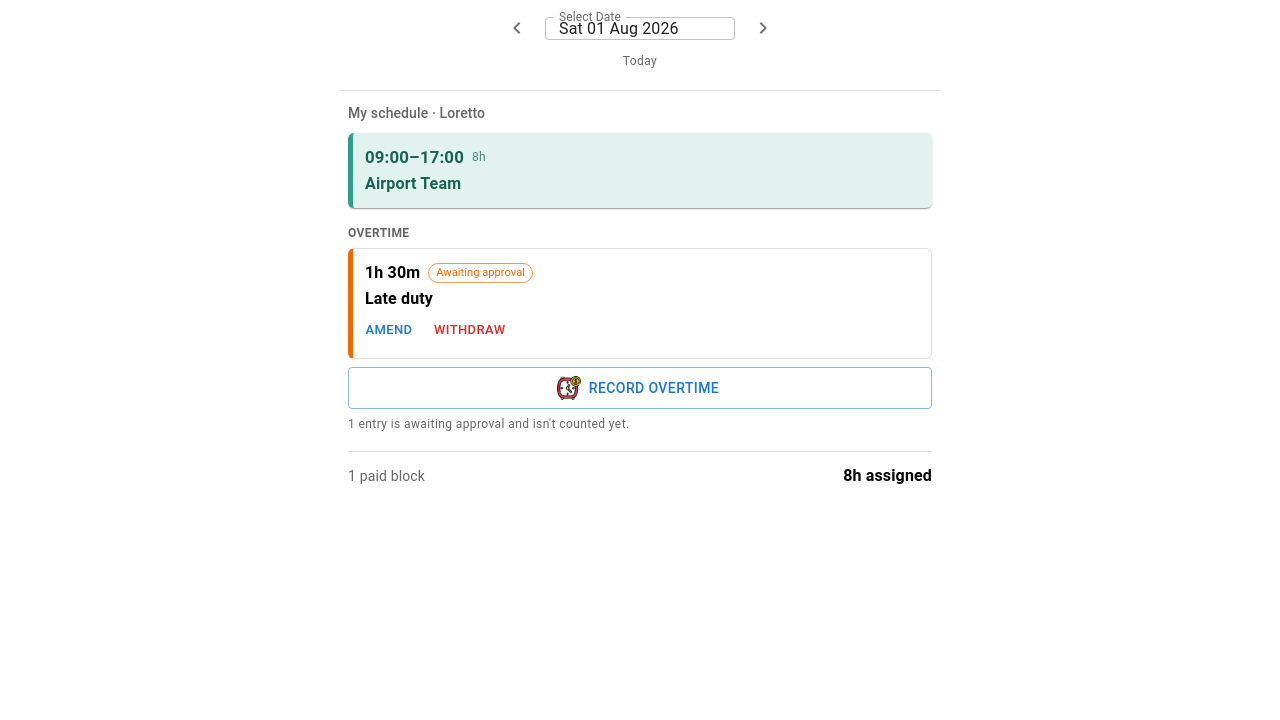
Test: withdraws an entry after confirming
This screenshot has width=1280, height=720.
Expected: the text "Late duty" is shown, [365,289,433,308]
Click the button "Withdraw" at coordinates (470, 330), box [429,315,510,346]
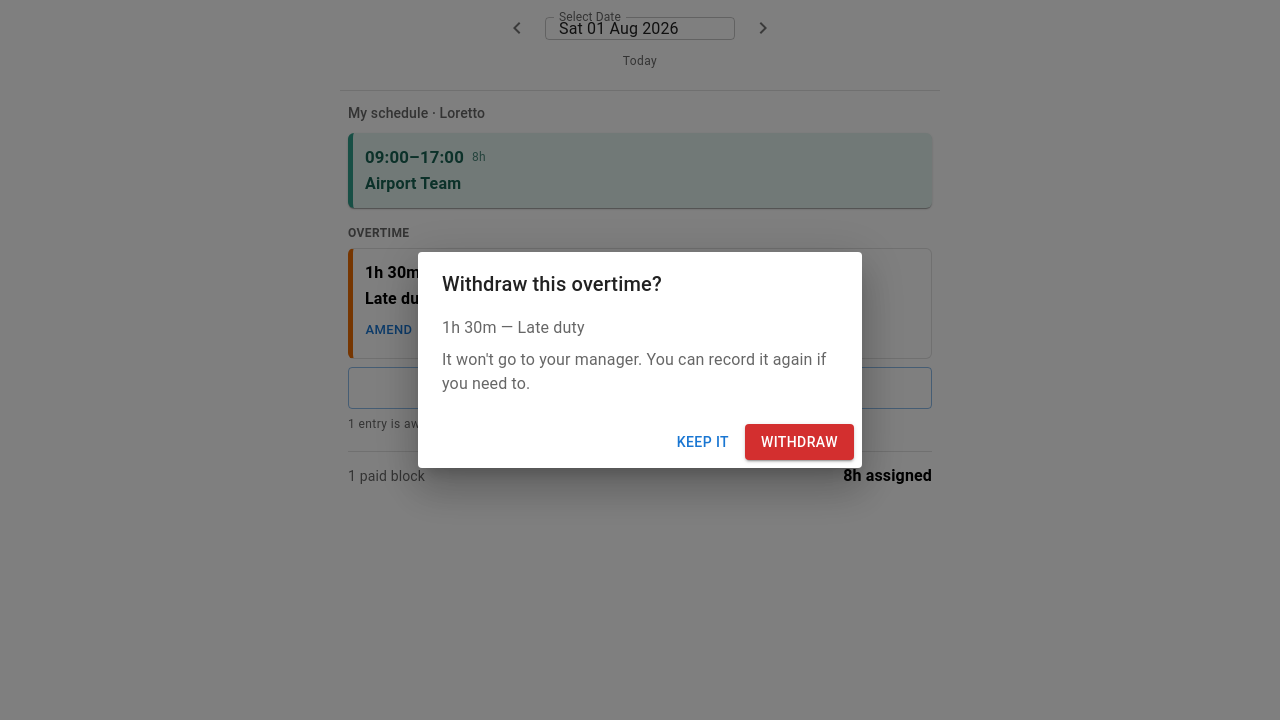
Result: the text "won't go to your manager" is shown at [442,350,826,393]
Click the button "Withdraw" at coordinates (800, 442), box [745,424,854,460]
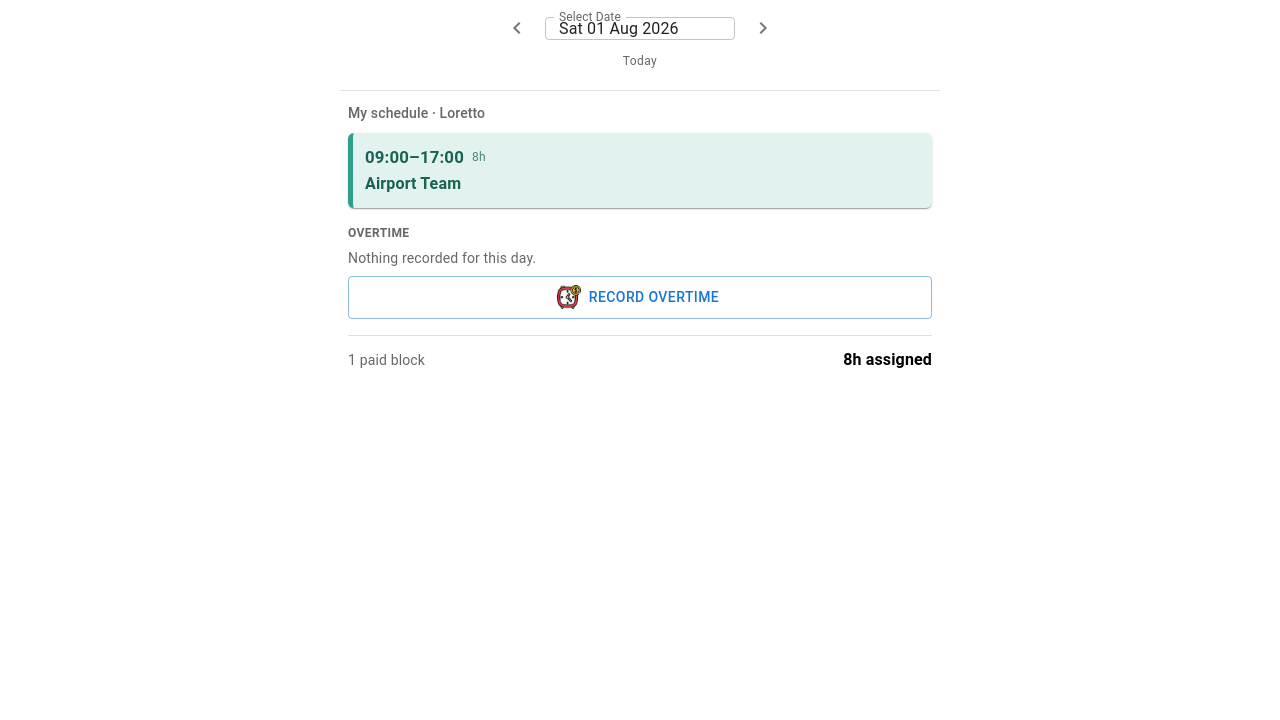
Result: the text "Late duty" is gone
Result: the text "Nothing recorded for this day." is shown at [348,250,536,266]
